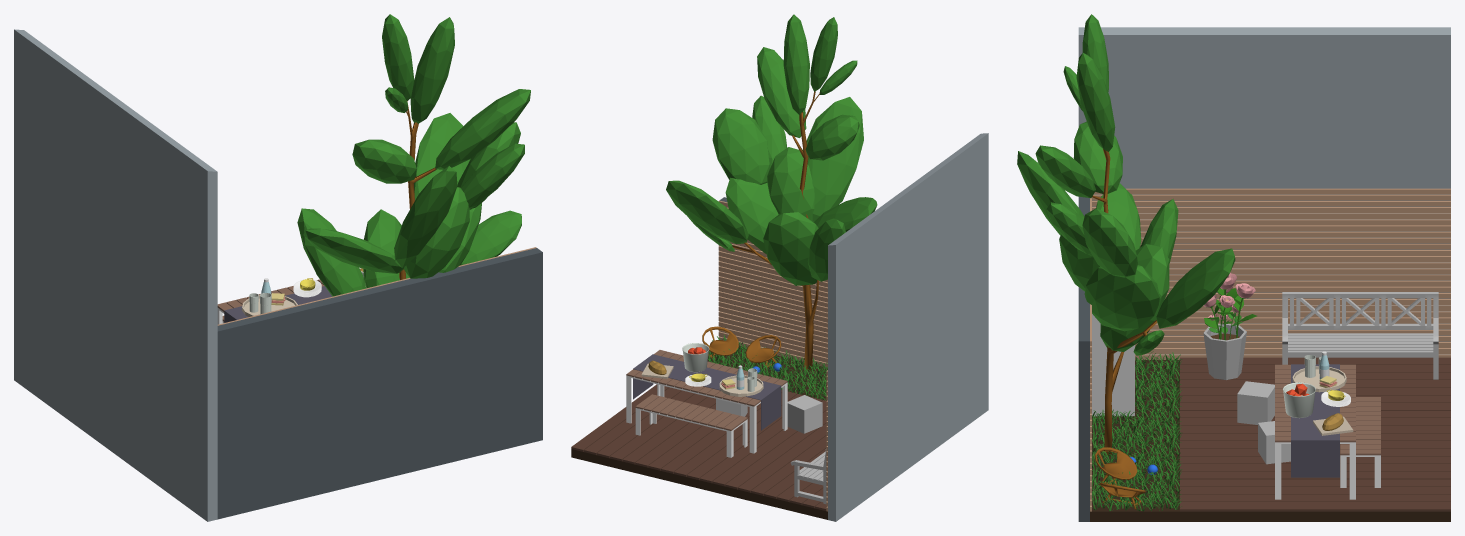
File: room14.glb
3 renders of one model, left to right at view 1: azimuth 30°, elevation 25°; view 2: azimuth 150°, elevation 25°; view 3: azimuth 270°, elevation 25°, orthographic. The views are drawn at different scales.
Parts seen in each view (by area): view 1: WallRight, WallLeft, Icosphere.003, Icosphere.001, Icosphere, Icosphere.011, Icosphere.005, Icosphere.013, Icosphere.014, Icosphere.002, Icosphere.007, Icosphere.012 (+5 smaller); view 2: WallRight, Wood Floor, Wood Wall Left, Soil, Icosphere.010, Icosphere.003, Icosphere.008, Icosphere.011, Icosphere.002, Grass, Icosphere.009, Table Cloth (+19 smaller); view 3: WallRight, Wood Wall Right, Wood Floor, Soil, Grass, Bench White, Icosphere.009, Table Cloth, Icosphere.002, WallLeft, SmallRoom, Icosphere.010 (+22 smaller).
Part boxes in pixels (x1,y1,x2,y2): WallRight: [14, 29, 217, 521]; WallLeft: [217, 248, 542, 519]; Icosphere.003: [394, 166, 457, 267]; Icosphere.001: [435, 89, 530, 169]; Icosphere: [410, 17, 454, 123]; Icosphere.011: [404, 187, 469, 278]; Icosphere.005: [297, 208, 365, 296]; Icosphere.013: [303, 228, 404, 273]; Icosphere.014: [352, 139, 416, 183]; Icosphere.002: [414, 113, 470, 200]; Icosphere.007: [382, 14, 414, 100]; Icosphere.012: [461, 143, 524, 208]; WallRight: [828, 133, 988, 521]; Wood Floor: [571, 384, 826, 510]; Wood Wall Left: [718, 200, 827, 367]; Soil: [571, 346, 827, 519]; Icosphere.010: [712, 108, 769, 184]; Icosphere.003: [802, 97, 863, 221]; Icosphere.008: [763, 212, 818, 285]; Icosphere.011: [767, 147, 814, 221]; Icosphere.002: [666, 180, 748, 243]; Grass: [707, 335, 827, 400]; Icosphere.009: [725, 177, 778, 253]; Table Cloth: [633, 354, 781, 430]; WallRight: [1078, 27, 1450, 354]; Wood Wall Right: [1092, 188, 1450, 359]; Wood Floor: [1180, 357, 1450, 511]; Soil: [1090, 360, 1450, 521]; Grass: [1092, 351, 1182, 511]; Bench White: [1282, 292, 1438, 379]; Icosphere.009: [1084, 265, 1159, 331]; Table Cloth: [1291, 364, 1339, 477]; Icosphere.002: [1156, 248, 1235, 328]; WallLeft: [1078, 196, 1089, 521]; SmallRoom: [1092, 314, 1134, 416]; Icosphere.010: [1082, 208, 1137, 277].
Size of the model in its own units: 5.18 by 6.46 by 5.78.
